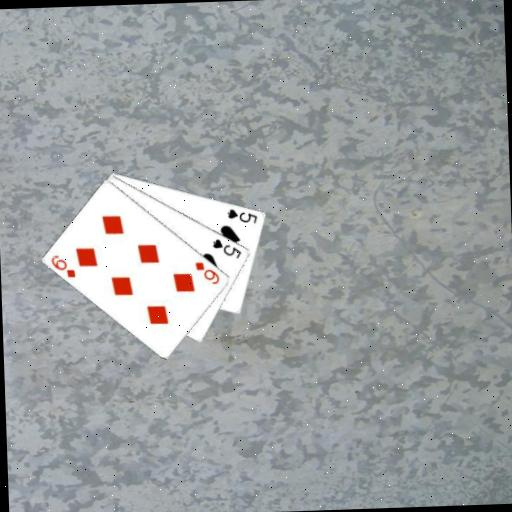5S: (209, 234, 242, 261), (224, 204, 260, 225)
6D: (47, 252, 77, 280), (192, 258, 221, 286)
